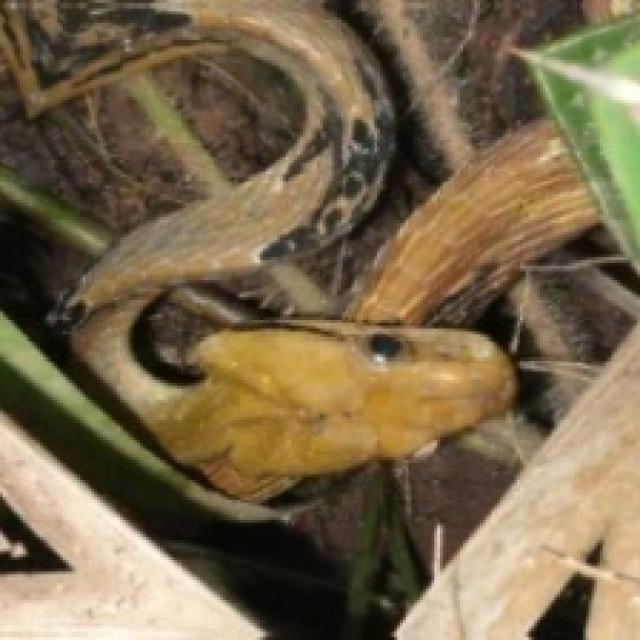dog-toothed cat snake: (0, 0, 598, 499)
